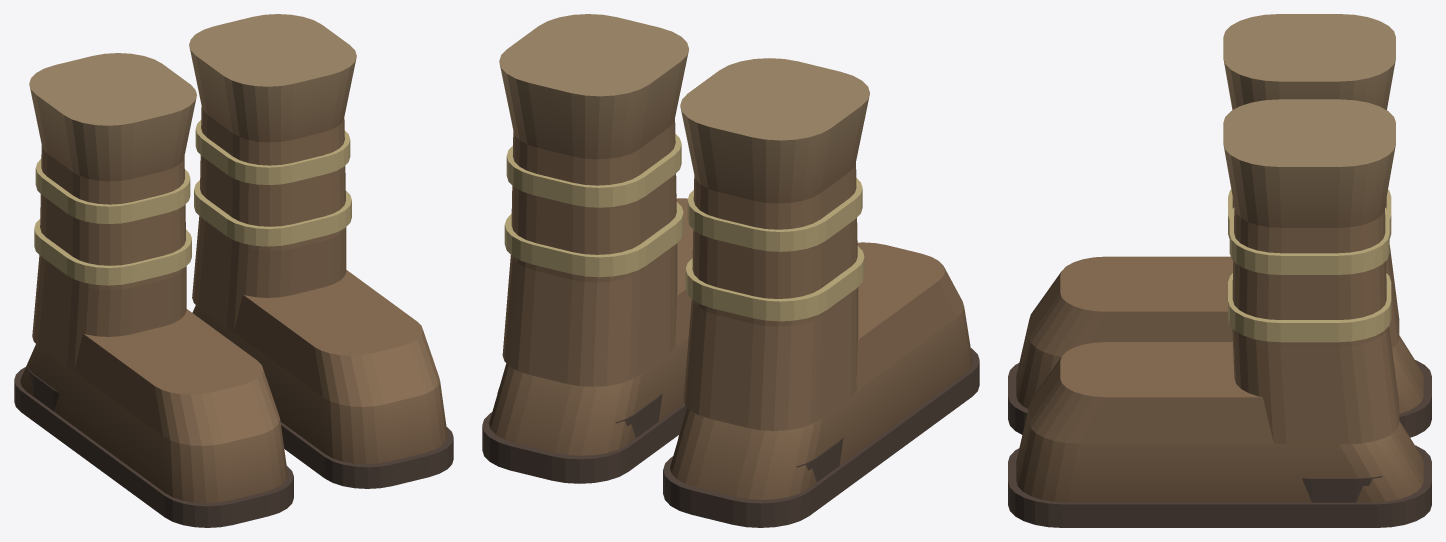
Rendered from boots.glb.
3 renders of one model, left to right at view 1: azimuth 30°, elevation 25°; view 2: azimuth 150°, elevation 25°; view 3: azimuth 270°, elevation 25°, orthographic. The views are drawn at different scales.
Visible parts, largest first — view 1: boots; view 2: boots; view 3: boots.
Part boxes in pixels (x1=…): boots: x1=14, y1=14, x2=453, y2=527; boots: x1=482, y1=14, x2=979, y2=527; boots: x1=1008, y1=14, x2=1431, y2=527.
Size of the model in its own units: 2.22 by 2.45 by 2.6.
